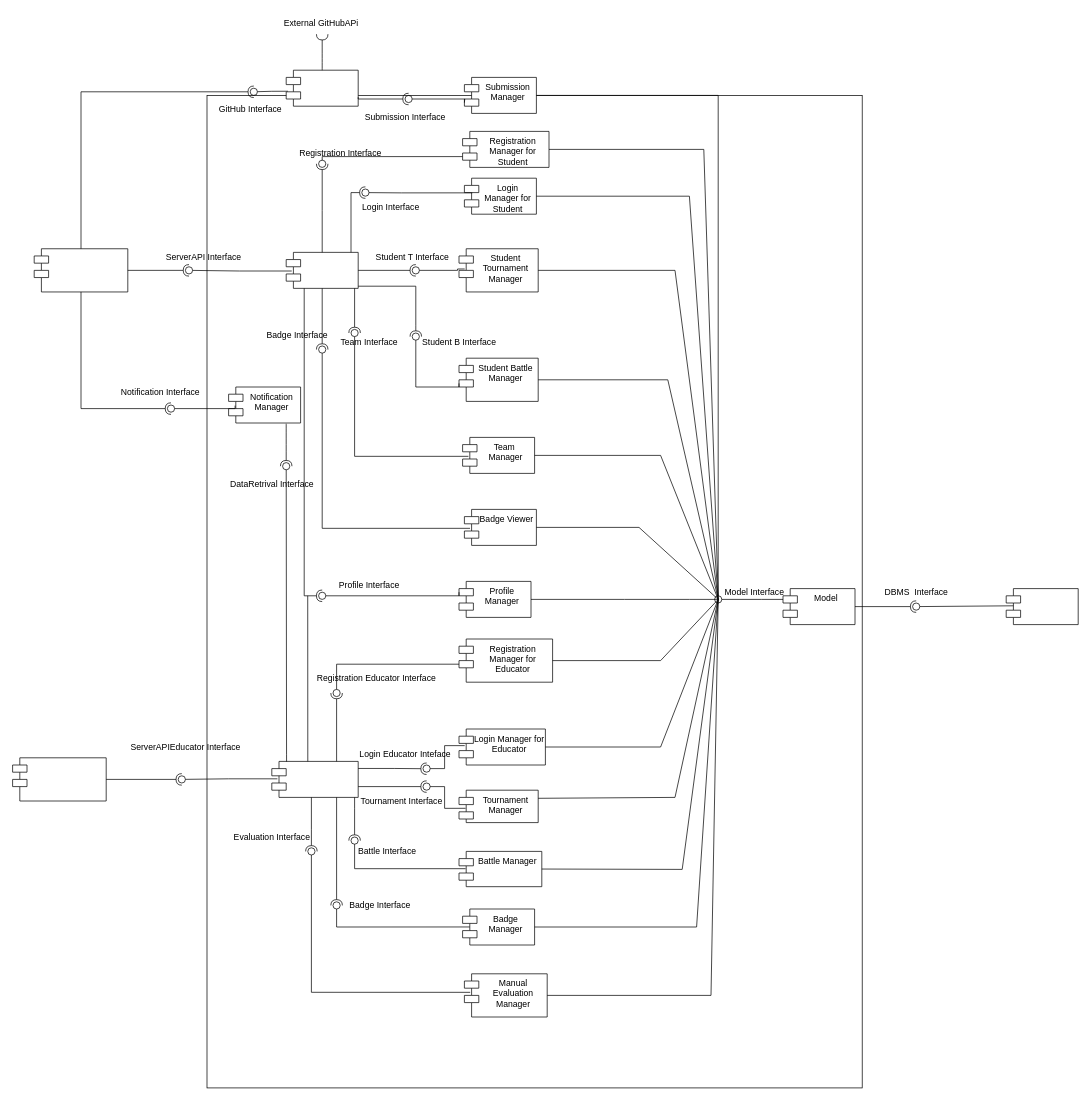
The diagram is 1091 pixels wide and 1100 high, and some of its shapes have lost their labels. The box of each missing label's shape, as (x1, y1, x2, y2) in pixels:
DBMS: (1005, 588, 1078, 625)
Dispatcher: (285, 252, 358, 288)
Dispatcher for Educator: (271, 761, 358, 797)
Educator Web Application: (12, 757, 106, 801)
GitHubAPI Manager: (285, 69, 358, 106)
Student Web Application: (33, 248, 128, 292)
